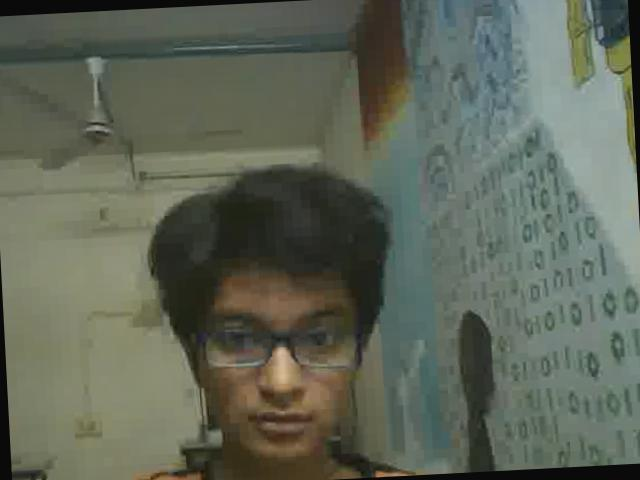bingung: (195, 251, 369, 468)
